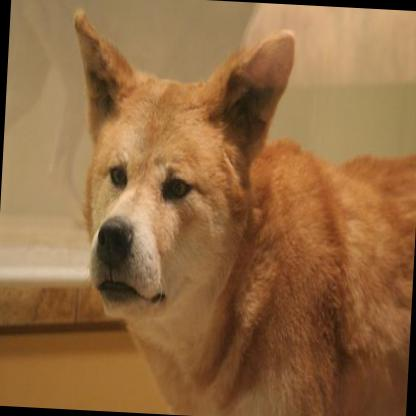dingo: (49, 2, 416, 416)
